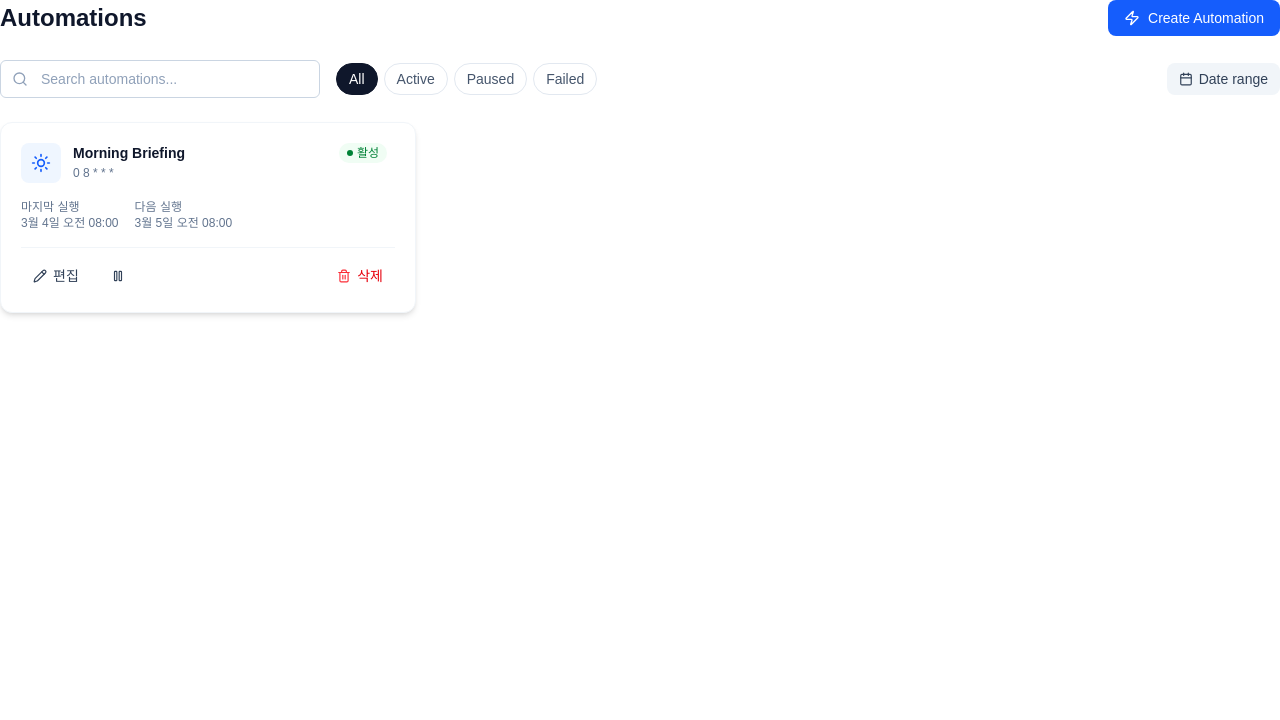
Scenario: Automation Delete — TC-3015, TC-3016, TC-3017 › TC-3015: clicking delete button opens a confirmation modal
The width and height of the screenshot is (1280, 720).
Click the button with aria-label "morning briefing 삭제".
click(360, 276)  # box x1=325 y1=260 x2=395 y2=292
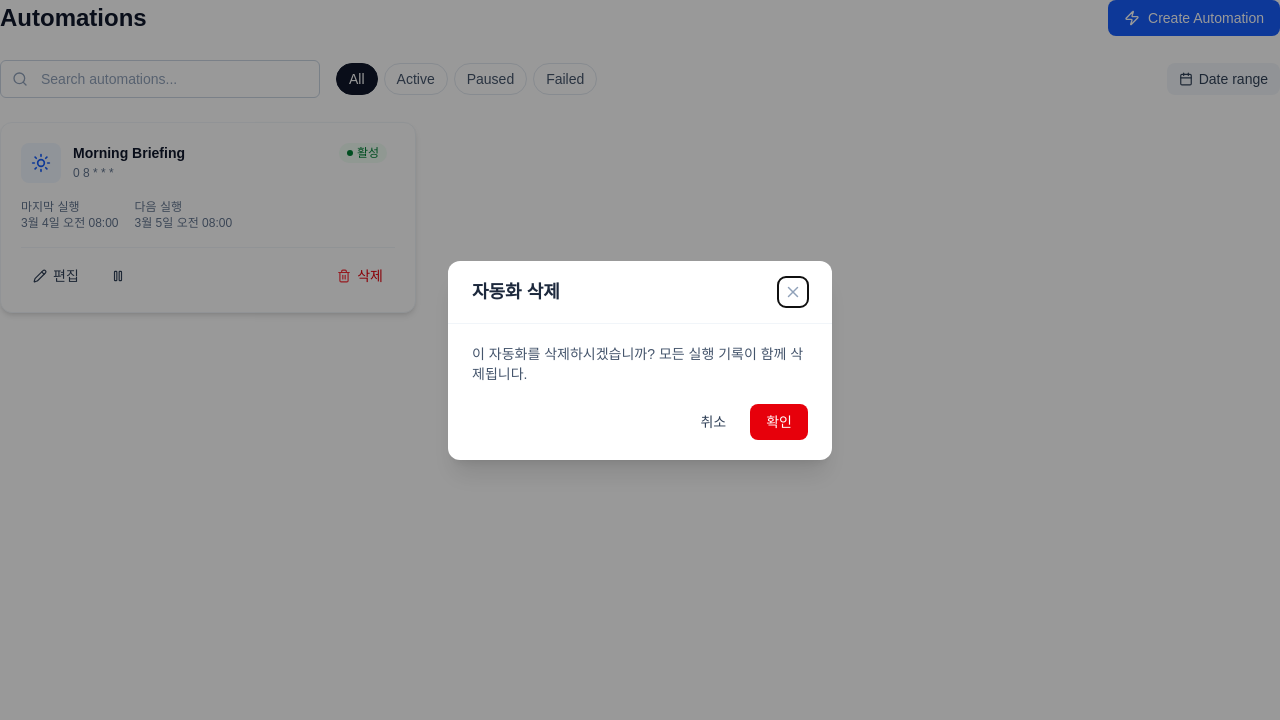
Check: the dialog is shown, box x1=448 y1=260 x2=832 y2=460
